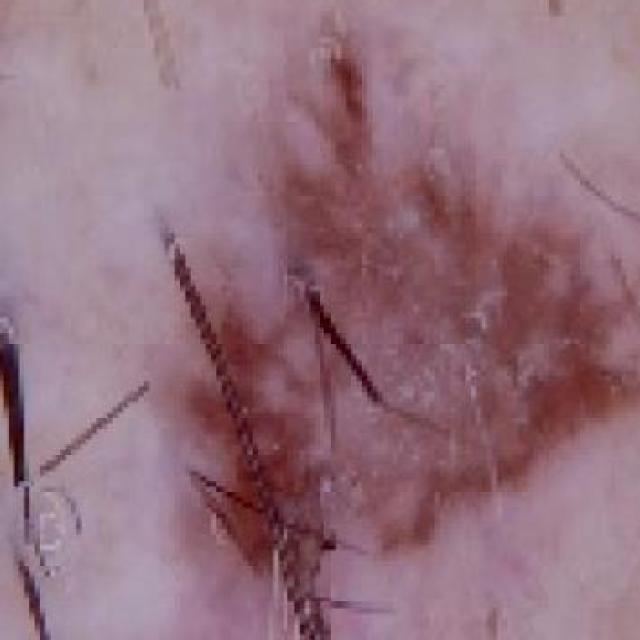AKIEC: (125, 59, 640, 640)
